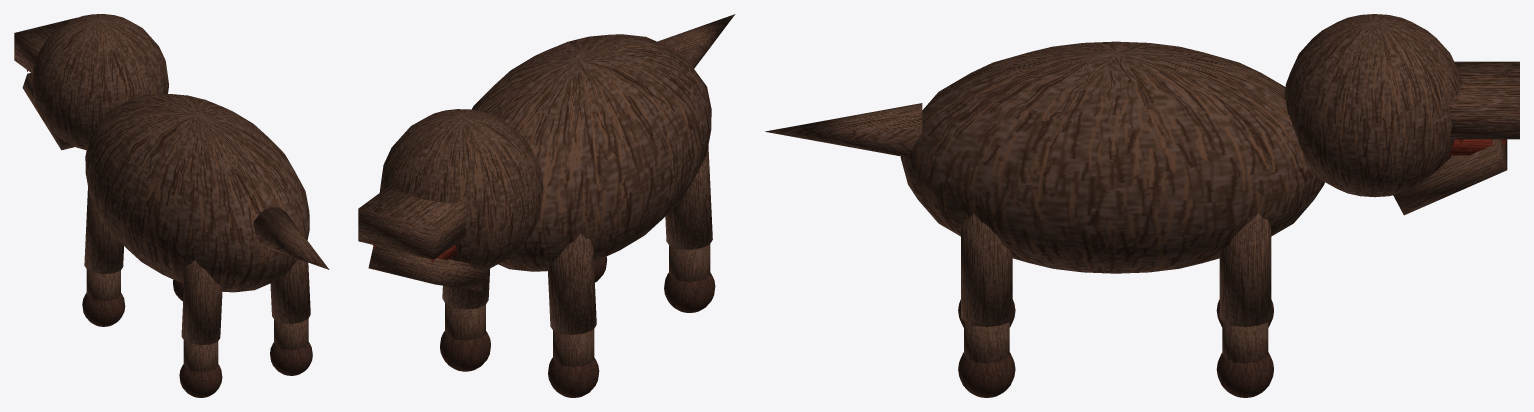
The model's file is devourer-beast.glb.
3 views of the same model, side by side, from view 1: azimuth 30°, elevation 25°; view 2: azimuth 150°, elevation 25°; view 3: azimuth 270°, elevation 25° (orthographic). The views are drawn at different scales.
Visible parts, largest first — view 1: Body, Head, LegUpper.001, Tail, LegUpper.003, LegUpper, UpperJaw, Paw.001, Paw.003, Paw, LegLower.001, LegLower (+2 smaller); view 2: Body, Head, UpperJaw, LegUpper, LowerJaw, LegUpper.001, Tail, Paw.001, Paw.002, Paw, LegLower.001, LegLower (+2 smaller); view 3: Body, Head, UpperJaw, LegUpper.002, LegUpper.003, Tail, LowerJaw, Paw.003, Paw.002, LegLower.002, LegLower.003.
Part boxes in pixels (x1,y1,x2,y2): Body: [85, 93, 309, 292]; Head: [31, 14, 168, 150]; LegUpper.001: [181, 260, 222, 344]; Tail: [253, 207, 329, 269]; LegUpper.003: [270, 259, 310, 323]; LegUpper: [84, 187, 123, 273]; UpperJaw: [14, 17, 76, 73]; Paw.001: [179, 364, 222, 397]; Paw.003: [270, 342, 312, 375]; Paw: [82, 293, 125, 326]; LegLower.001: [183, 340, 218, 372]; LegLower: [86, 269, 120, 301]; Body: [471, 34, 711, 271]; Head: [379, 109, 543, 269]; UpperJaw: [358, 185, 466, 259]; LegUpper: [547, 233, 596, 334]; LowerJaw: [368, 245, 486, 291]; LegUpper.001: [665, 145, 712, 249]; Tail: [657, 14, 735, 68]; Paw.001: [664, 272, 715, 312]; Paw.002: [440, 331, 490, 371]; Paw: [548, 357, 599, 397]; LegLower.001: [669, 244, 710, 282]; LegLower: [553, 329, 594, 367]; Body: [900, 41, 1324, 273]; Head: [1284, 14, 1462, 197]; UpperJaw: [1447, 61, 1519, 139]; LegUpper.002: [1219, 213, 1271, 326]; LegUpper.003: [961, 213, 1012, 326]; Tail: [765, 103, 922, 157]; LowerJaw: [1393, 139, 1507, 215]; Paw.003: [958, 352, 1015, 397]; Paw.002: [1216, 352, 1273, 397]; LegLower.002: [1222, 321, 1268, 363]; LegLower.003: [964, 322, 1009, 363].
Bounding box in the file's own units: 0.6439 × 1 × 1.99.
Materials: 4 (3 with a texture image).
